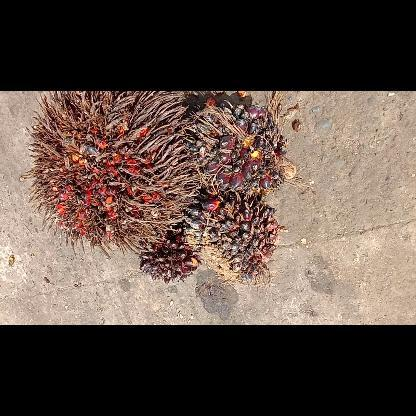TBS abnormal: (185, 100, 299, 200), (181, 189, 281, 289), (138, 224, 206, 286)
Terlalu masak: (18, 90, 204, 260)
